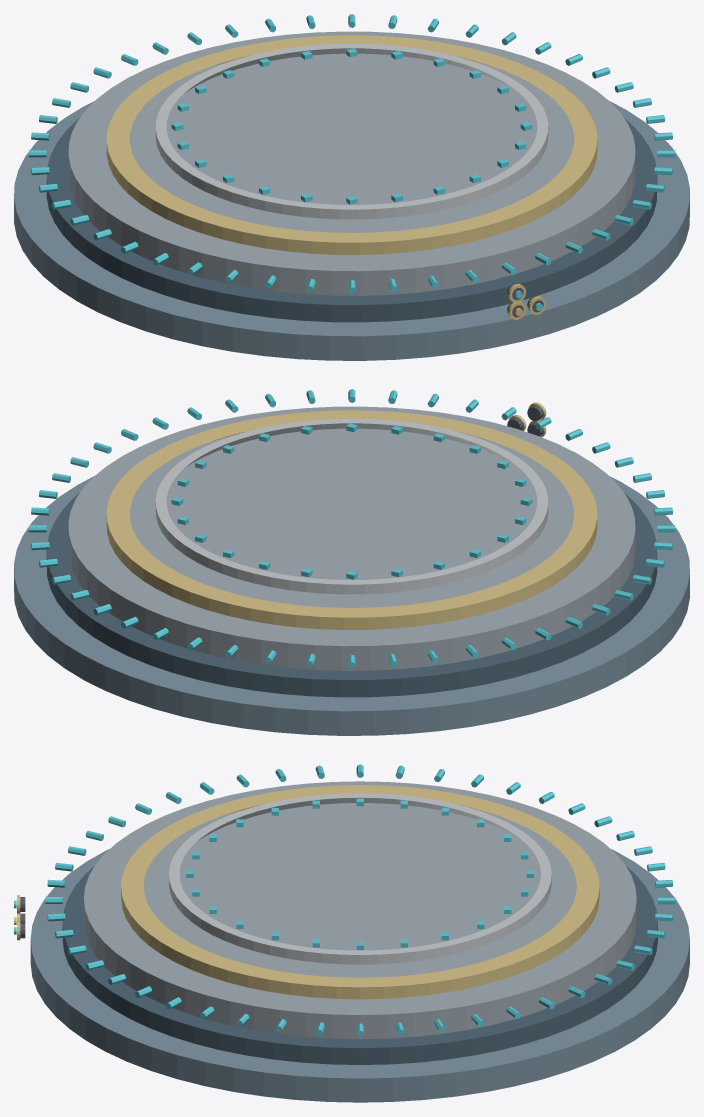
The model's file is 04_L82_RotatingEUTTurntable.glb.
3 renders of one model, top to bottom at view 1: azimuth 30°, elevation 25°; view 2: azimuth 150°, elevation 25°; view 3: azimuth 270°, elevation 25°, orthographic. The views are drawn at different scales.
Parts seen in each view (by area): view 1: RotatingEUTTurntable_Node_0002, RotatingEUTTurntable_Node_0000, RotatingEUTTurntable_Node_0051, RotatingEUTTurntable_Node_0001, RotatingEUTTurntable_Node_0052; view 2: RotatingEUTTurntable_Node_0002, RotatingEUTTurntable_Node_0000, RotatingEUTTurntable_Node_0051, RotatingEUTTurntable_Node_0001, RotatingEUTTurntable_Node_0052; view 3: RotatingEUTTurntable_Node_0002, RotatingEUTTurntable_Node_0000, RotatingEUTTurntable_Node_0051, RotatingEUTTurntable_Node_0001, RotatingEUTTurntable_Node_0052.
Boxes of the visible parts, left/top/right/bottom form: RotatingEUTTurntable_Node_0002: left=68, top=31, right=635, bottom=295; RotatingEUTTurntable_Node_0000: left=14, top=101, right=689, bottom=360; RotatingEUTTurntable_Node_0051: left=106, top=35, right=597, bottom=254; RotatingEUTTurntable_Node_0001: left=46, top=118, right=657, bottom=322; RotatingEUTTurntable_Node_0052: left=155, top=43, right=548, bottom=219; RotatingEUTTurntable_Node_0002: left=68, top=406, right=635, bottom=670; RotatingEUTTurntable_Node_0000: left=14, top=476, right=689, bottom=735; RotatingEUTTurntable_Node_0051: left=106, top=410, right=597, bottom=629; RotatingEUTTurntable_Node_0001: left=46, top=493, right=657, bottom=697; RotatingEUTTurntable_Node_0052: left=155, top=418, right=548, bottom=594; RotatingEUTTurntable_Node_0002: left=83, top=781, right=636, bottom=1039; RotatingEUTTurntable_Node_0000: left=30, top=849, right=689, bottom=1102; RotatingEUTTurntable_Node_0051: left=121, top=785, right=599, bottom=999; RotatingEUTTurntable_Node_0001: left=62, top=866, right=657, bottom=1064; RotatingEUTTurntable_Node_0052: left=169, top=793, right=551, bottom=964.
Size of the model in its own units: 4.96 by 0.7575 by 5.09.
